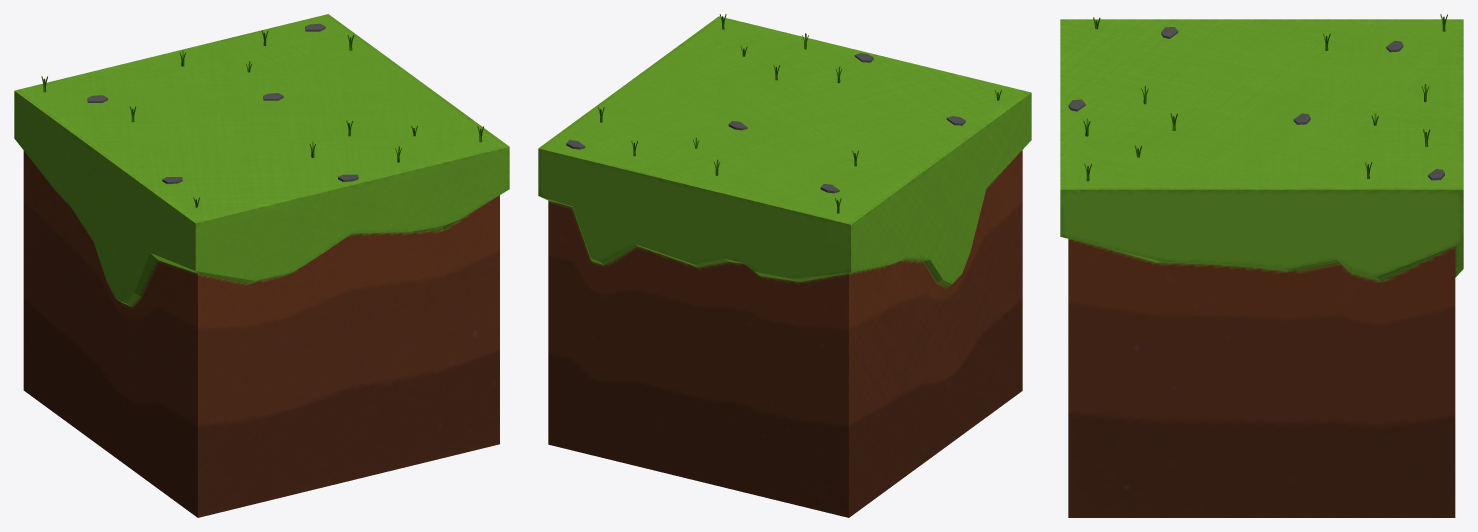
The model's file is Concepts_17.fbx.
3 renders of one model, left to right at view 1: azimuth 30°, elevation 25°; view 2: azimuth 150°, elevation 25°; view 3: azimuth 270°, elevation 25°, orthographic. The views are drawn at different scales.
Visible parts, largest first — view 1: Cube.028, Cube.244; view 2: Cube.028, Cube.244; view 3: Cube.028, Cube.244.
Boxes of the visible parts, bbox=[...] form: Cube.028: bbox=[14, 14, 509, 517]; Cube.244: bbox=[41, 23, 483, 207]; Cube.028: bbox=[538, 16, 1031, 517]; Cube.244: bbox=[566, 14, 1001, 213]; Cube.028: bbox=[1060, 19, 1463, 517]; Cube.244: bbox=[1068, 14, 1447, 181].
Bounding box in the file's own units: 301 × 287 × 301.
